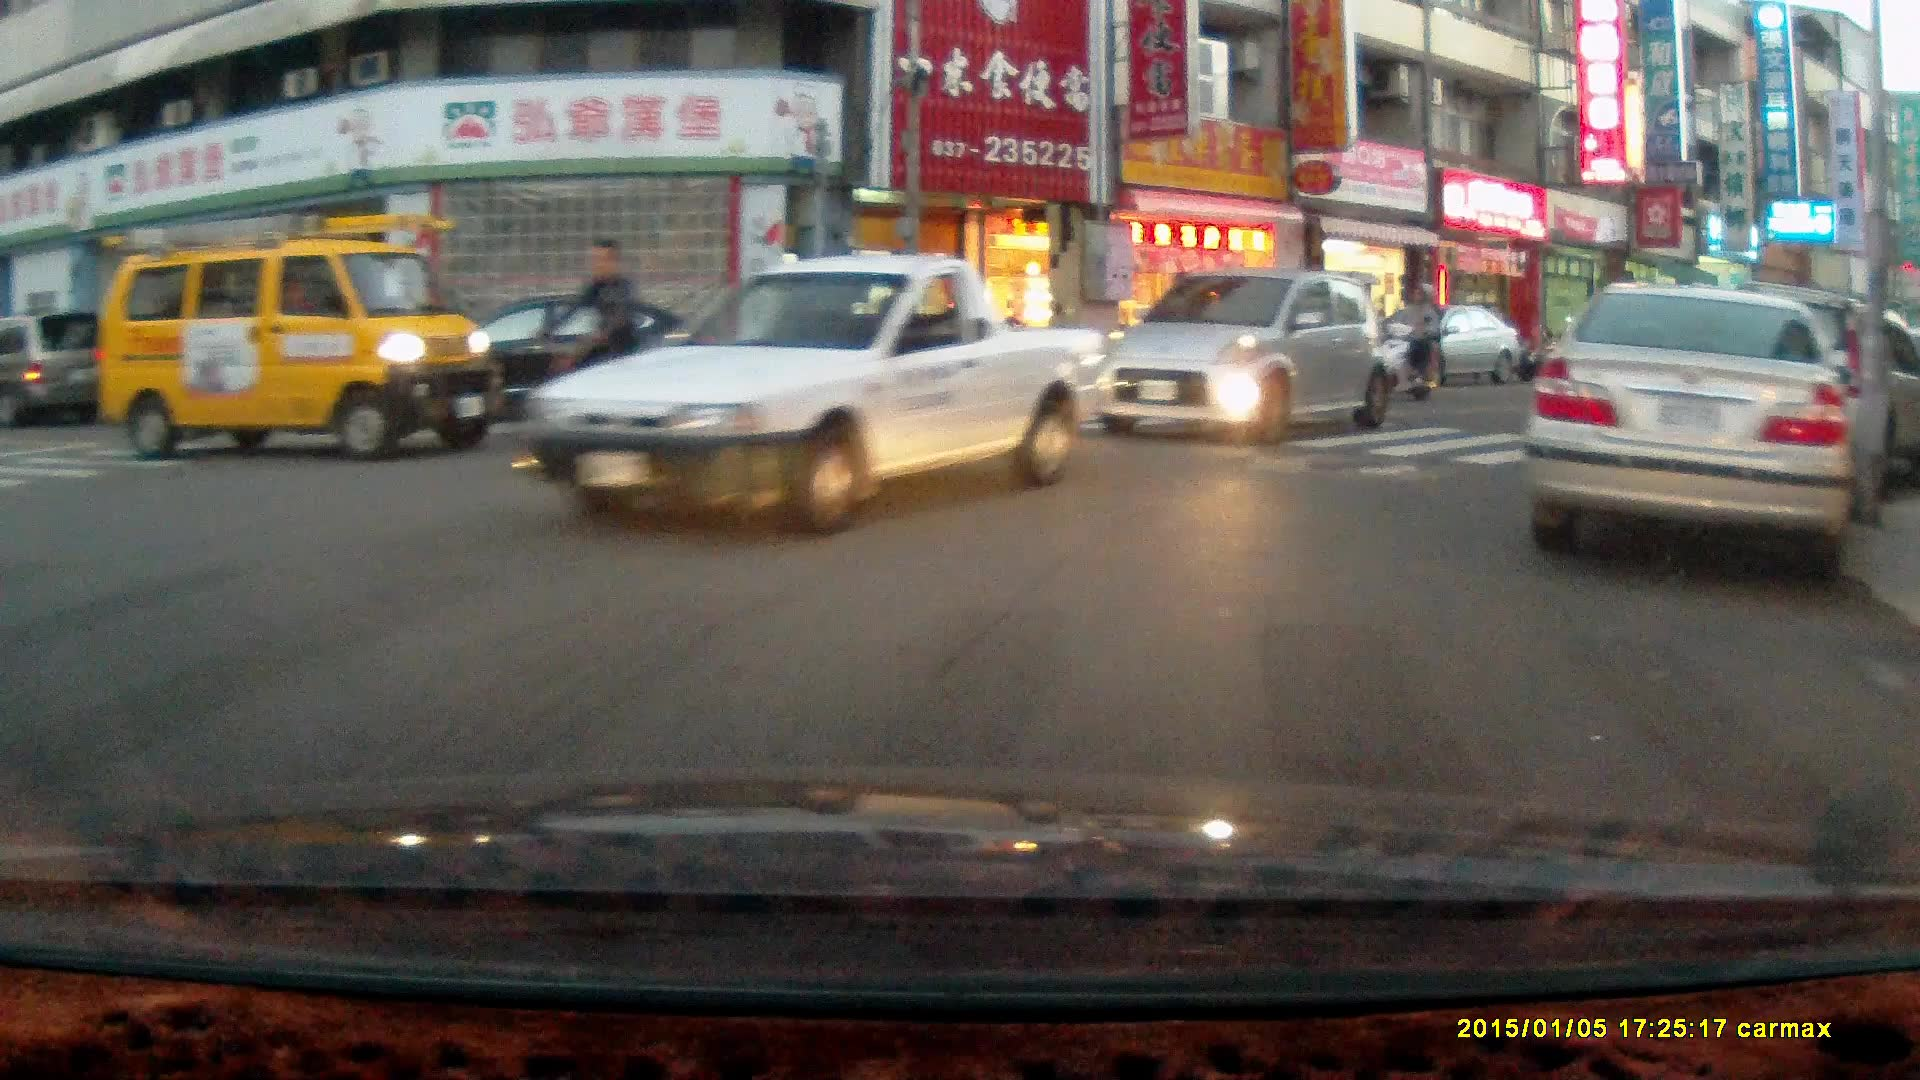rider: (501, 237, 681, 473), (1376, 276, 1442, 403)
vehicle: (516, 248, 1108, 537), (1523, 279, 1862, 594), (91, 210, 496, 464), (1661, 291, 1920, 504), (1089, 268, 1393, 443), (416, 289, 725, 418), (1, 306, 126, 428), (1387, 304, 1520, 383)
